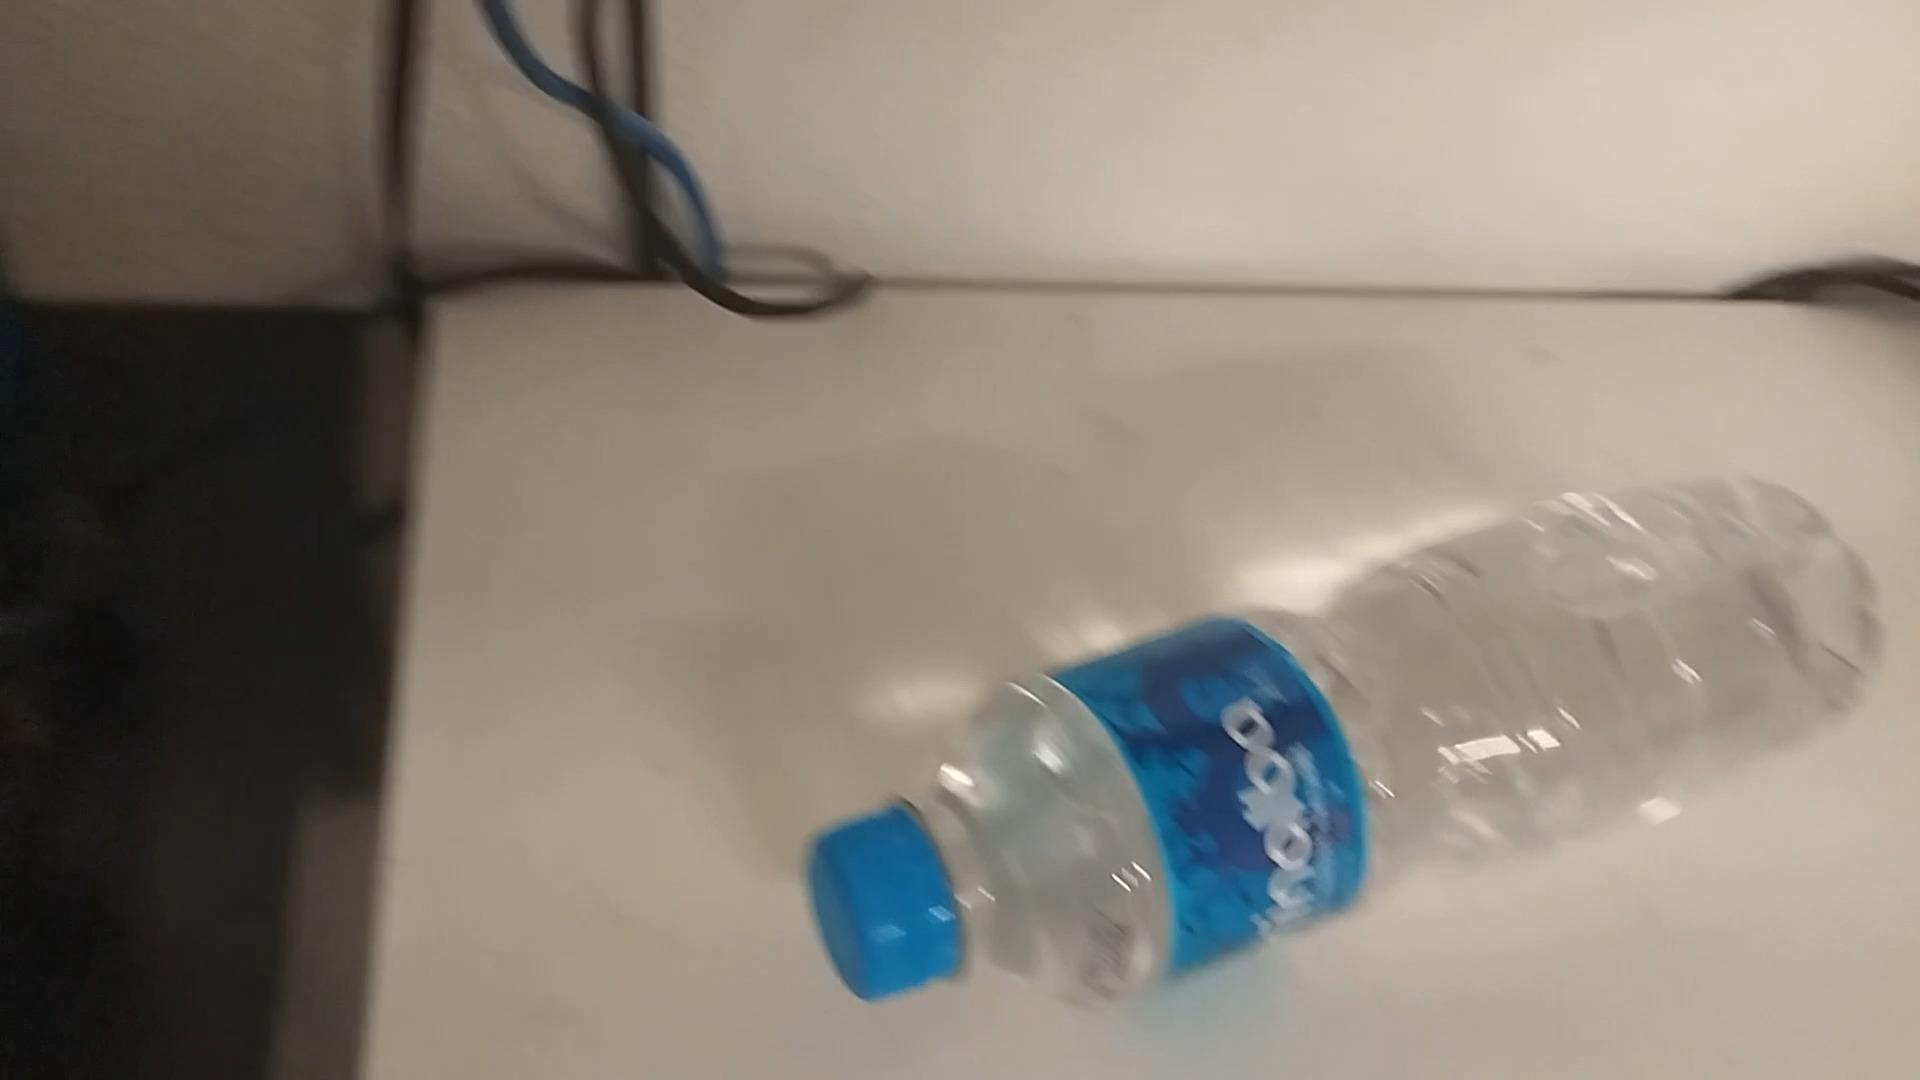agua: (808, 475, 1884, 1010)
